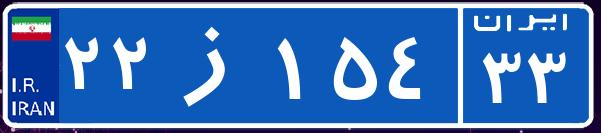1: (273, 28, 330, 110)
2: (57, 26, 110, 107), (110, 28, 158, 105)
3: (475, 38, 525, 113), (525, 38, 570, 115)
4: (385, 28, 445, 110)
5: (330, 28, 385, 110)
ز: (158, 15, 273, 115)
